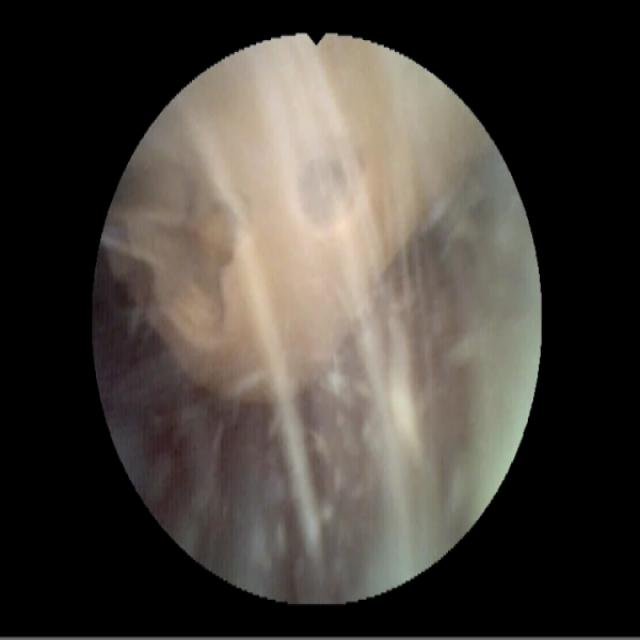stone: (107, 38, 483, 405)
